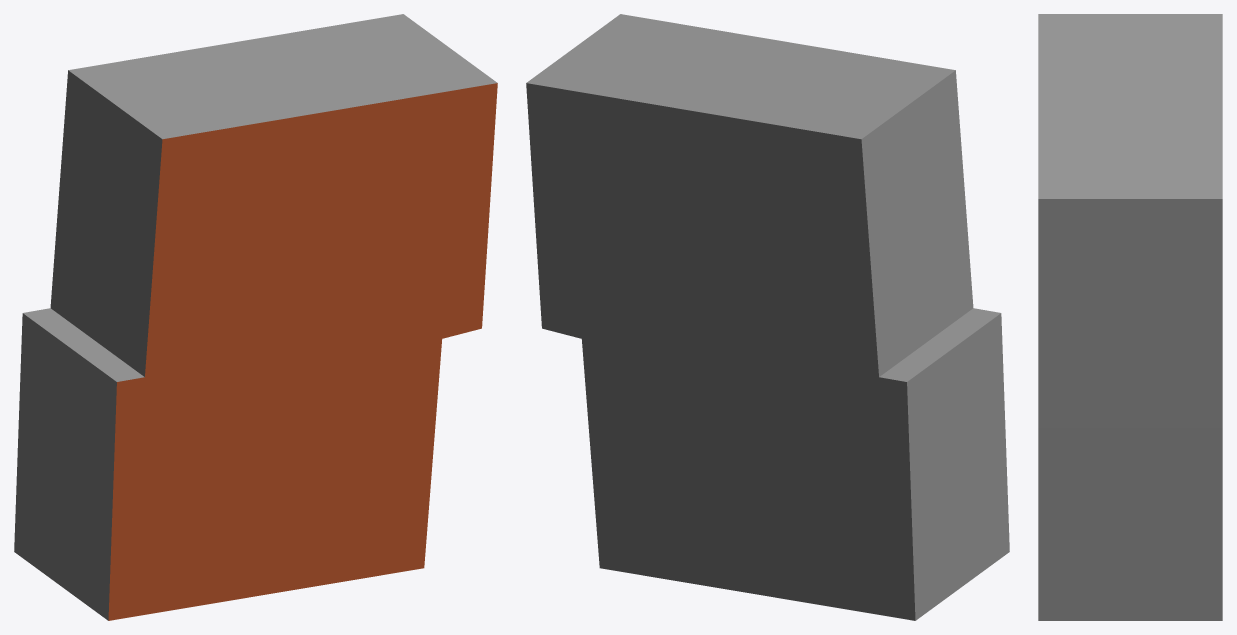
File: construction_2855_assumed_A_Casa_h6m.obj
3 renders of one model, left to right at view 1: azimuth 30°, elevation 25°; view 2: azimuth 150°, elevation 25°; view 3: azimuth 270°, elevation 25°, orthographic. The views are drawn at different scales.
Visible parts, largest first — view 1: construction_2855_assumed_A_Casa; view 2: construction_2855_assumed_A_Casa; view 3: construction_2855_assumed_A_Casa.
Boxes of the visible parts, x1,y1,x2,y2 form: construction_2855_assumed_A_Casa: (14,14,497,620); construction_2855_assumed_A_Casa: (526,14,1009,620); construction_2855_assumed_A_Casa: (1038,14,1222,620).
Bounding box in the file's own units: 14.29 × 17.29 × 6.
